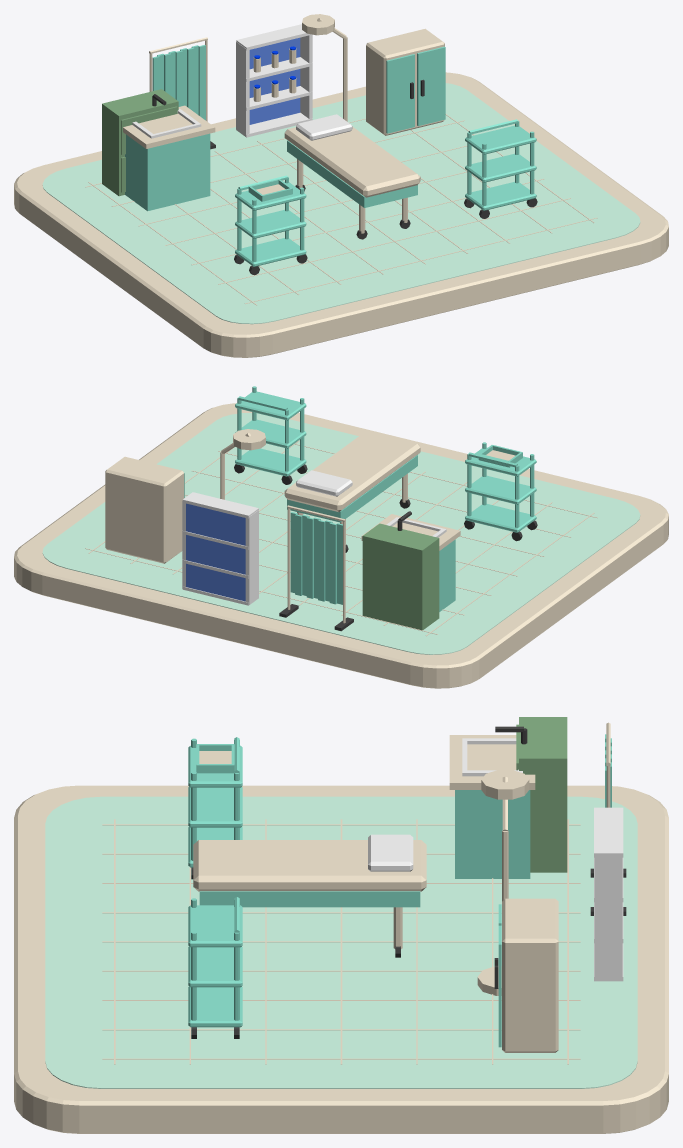
3 views of the same model, one above another, from view 1: azimuth 30°, elevation 25°; view 2: azimuth 150°, elevation 25°; view 3: azimuth 270°, elevation 25° (orthographic). The views are drawn at different scales.
Visible parts, largest first — view 1: COM-02 Floor Surface, COM-01 Rounded Base Direct, Cabinet, Mattress, Cabinet.001, Equipment case, Cabinet back, Door.001, Door, Counter, Clean supply cabinet side, Tray.005 (+14 smaller); view 2: COM-02 Floor Surface, COM-01 Rounded Base Direct, Equipment case, Cabinet.001, Cabinet back, Mattress, Clean supply cabinet side, Tray.001, Tray, Tray.003, Tray.005, Cabinet (+13 smaller); view 3: COM-02 Floor Surface, COM-01 Rounded Base Direct, Mattress, Equipment case, Cabinet.001, Cabinet, Clean supply cabinet side.001, Counter, Base, Tray.005, Tray.003, Tray.004 (+13 smaller).
Boxes of the visible parts, x1,y1,x2,y2 form: COM-02 Floor Surface: (42,83,640,324); COM-01 Rounded Base Direct: (14,72,668,357); Cabinet: (125,133,210,211); Mattress: (284,127,420,197); Cabinet.001: (102,89,178,196); Equipment case: (366,28,444,135); Cabinet back: (249,37,300,124); Door.001: (417,46,445,126); Door: (386,54,414,133); Counter: (123,105,215,148); Clean supply cabinet side: (236,41,249,136); Tray.005: (465,125,536,154); COM-02 Floor Surface: (42,413,640,654); COM-01 Rounded Base Direct: (14,403,668,688); Equipment case: (105,456,184,563); Cabinet.001: (362,523,439,630); Cabinet back: (186,503,245,601); Mattress: (284,431,420,511); Clean supply cabinet side: (245,510,258,604); Tray.001: (465,475,536,504); Tray: (465,504,536,532); Tray.003: (235,448,306,476); Tray.005: (235,391,306,420); Cabinet: (439,539,455,611); COM-02 Floor Surface: (45,796,637,1088); COM-01 Rounded Base Direct: (14,785,668,1133); Mattress: (193,840,426,891); Equipment case: (502,898,558,1052); Cabinet.001: (516,717,567,872); Cabinet: (455,790,530,878); Clean supply cabinet side.001: (594,855,622,980); Counter: (449,735,535,789); Base: (199,896,420,907); Tray.005: (188,905,242,947); Tray.003: (188,986,242,1027); Tray.004: (188,946,242,987).
Bounding box in the file's own units: 6 × 1.96 × 5.2.
Materials: 1 (1 with a texture image).
